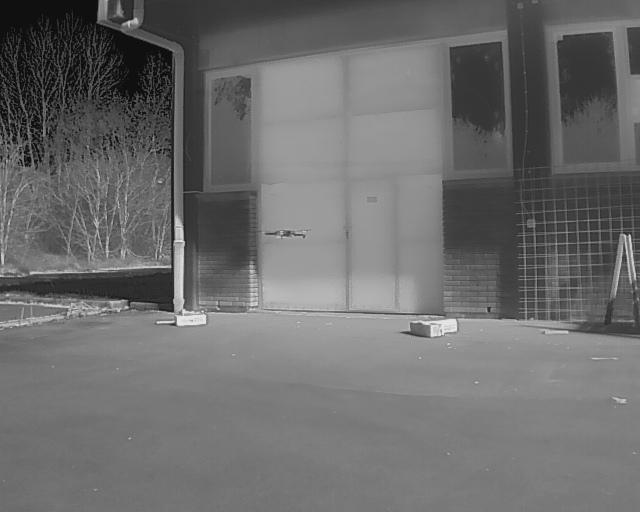drone: (252, 219, 316, 249)
